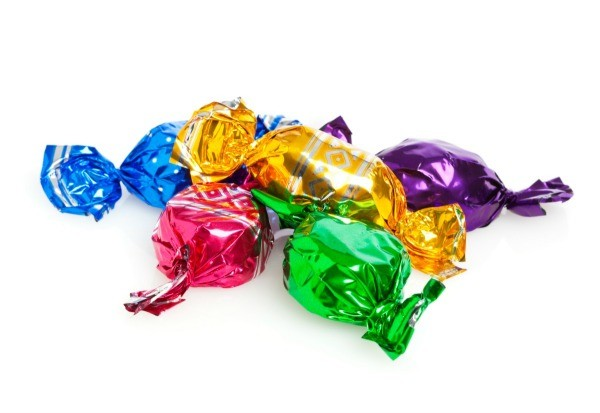Nonrec_Plastic: (21, 66, 584, 360), (182, 99, 491, 279), (250, 184, 451, 351)
